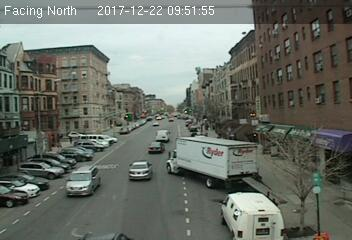car: (65, 165, 102, 198), (128, 160, 152, 178), (155, 129, 170, 142), (148, 141, 164, 153)
truck: (165, 136, 258, 188), (218, 190, 282, 240)
